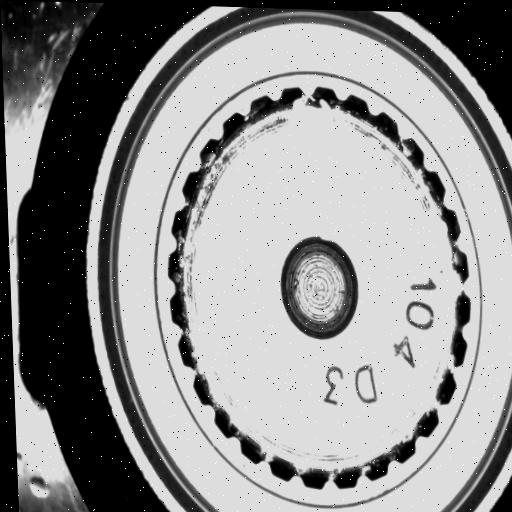gear: (157, 79, 481, 499)
